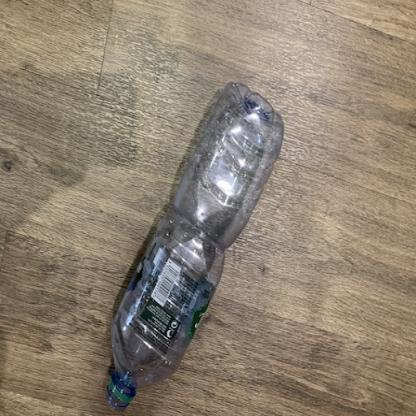trash: (101, 81, 288, 411)
